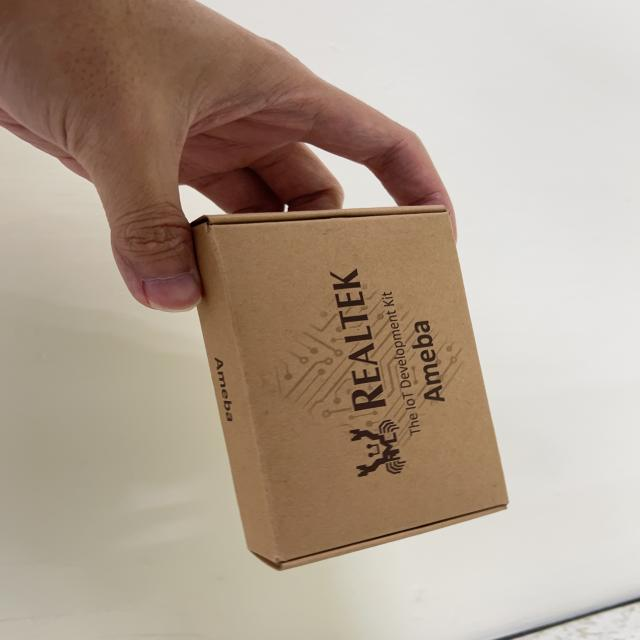box: (179, 197, 536, 578)
